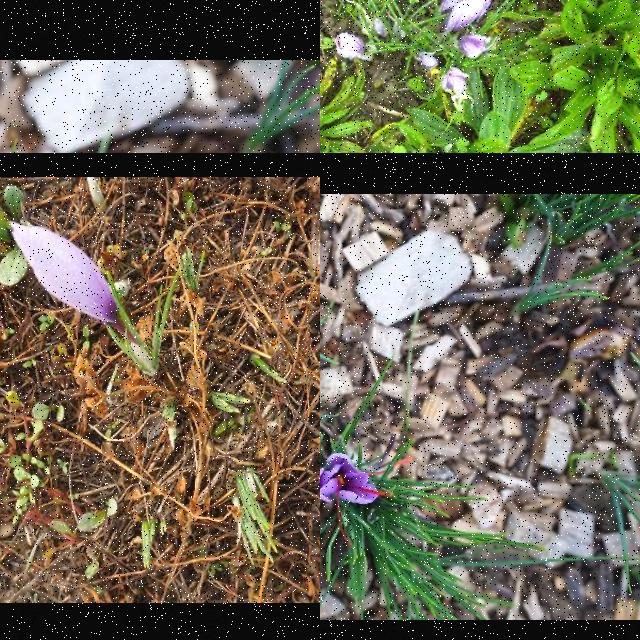flower: (10, 221, 122, 325), (320, 452, 415, 545), (335, 31, 367, 60), (458, 34, 486, 61), (441, 67, 469, 93), (418, 52, 438, 68)
overlap: (438, 0, 502, 36)
